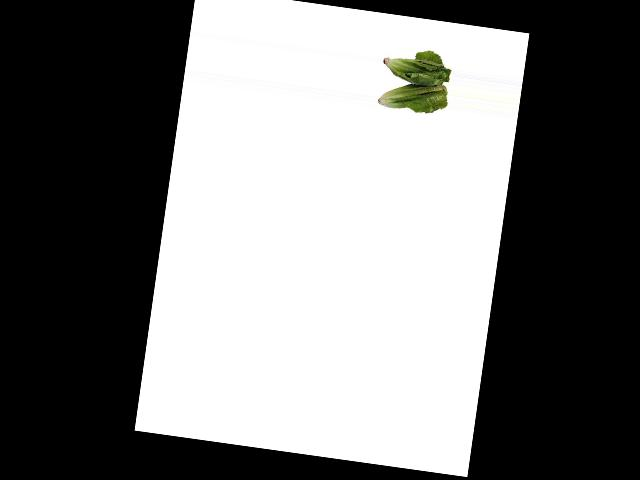lettuce: (375, 51, 453, 119)
